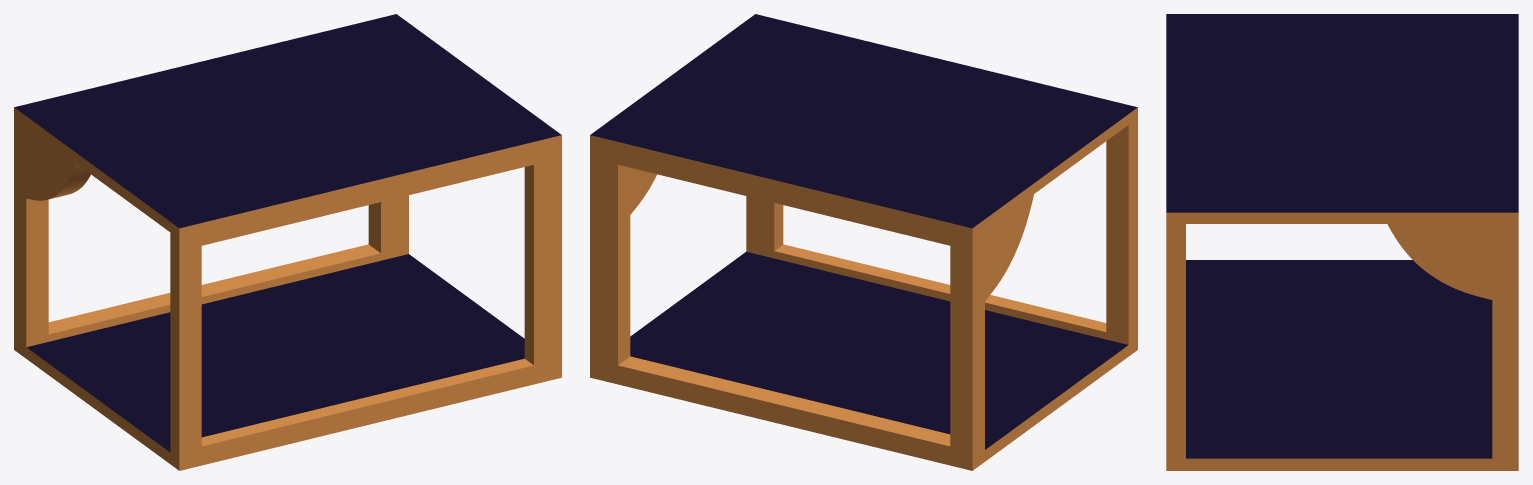
Rendered from tray.dae.
3 views of the same model, side by side, from view 1: azimuth 30°, elevation 25°; view 2: azimuth 150°, elevation 25°; view 3: azimuth 270°, elevation 25° (orthographic). The views are drawn at different scales.
Parts seen in each view (by area): view 1: node0; view 2: node0; view 3: node0.
Part boxes in pixels (bbox=[...]): node0: bbox=[14, 14, 561, 470]; node0: bbox=[590, 14, 1137, 470]; node0: bbox=[1166, 14, 1518, 470].
Size of the model in its own units: 0.361 by 0.2705 by 0.2188.
